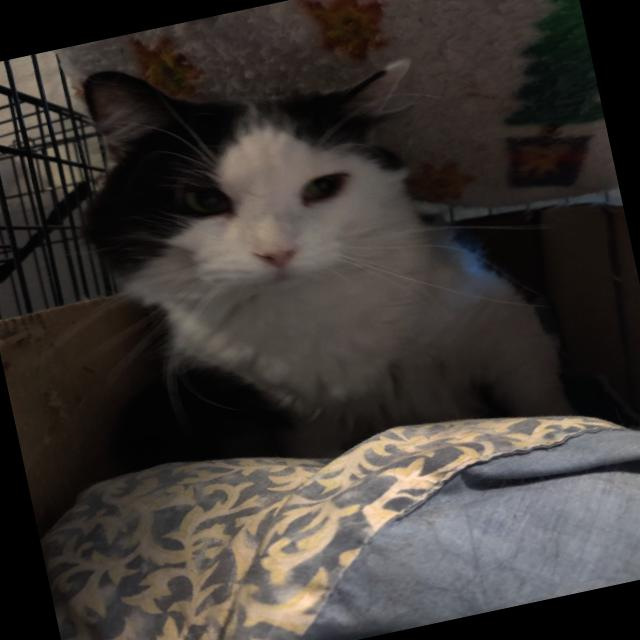maine_coon_cat: (32, 0, 514, 409)
